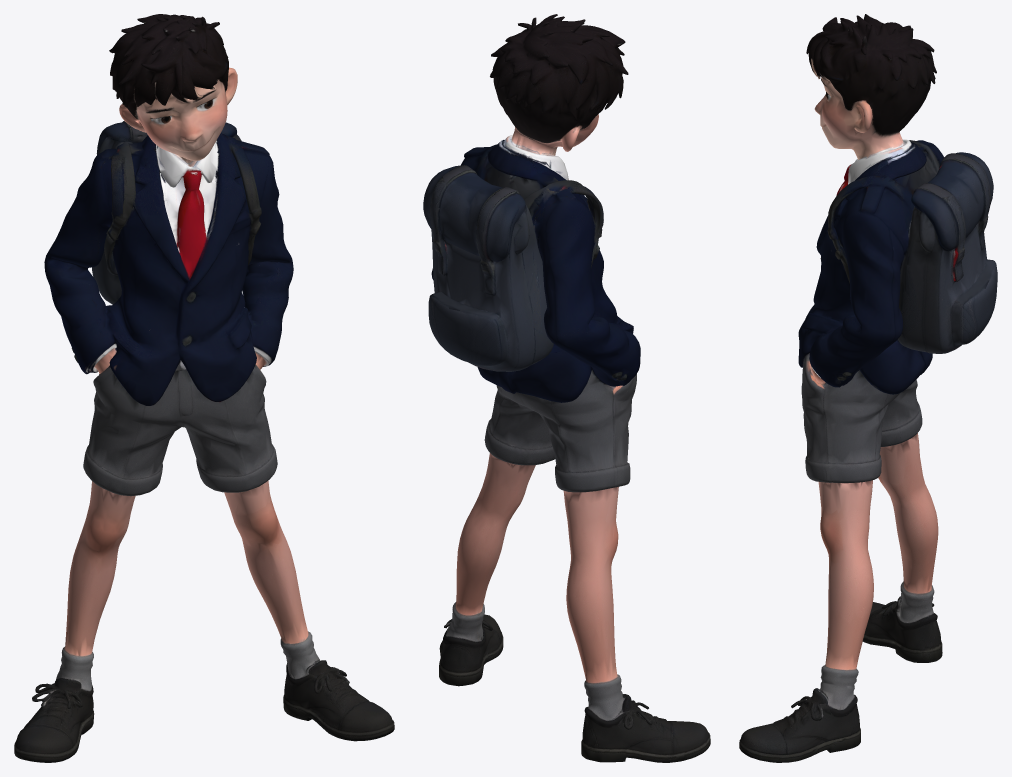
Rendered from ConfidentBoy.glb.
3 views of the same model, side by side, from view 1: azimuth 30°, elevation 25°; view 2: azimuth 150°, elevation 25°; view 3: azimuth 270°, elevation 25° (orthographic). The views are drawn at different scales.
Parts seen in each view (by area): view 1: mesh_node; view 2: mesh_node; view 3: mesh_node.
Boxes of the visible parts, bbox=[...] form: mesh_node: bbox=[14, 14, 394, 762]; mesh_node: bbox=[423, 14, 710, 762]; mesh_node: bbox=[739, 14, 997, 762].
Size of the model in its own units: 0.7952 by 1.7 by 0.5959.
1 material, 1 textured.
